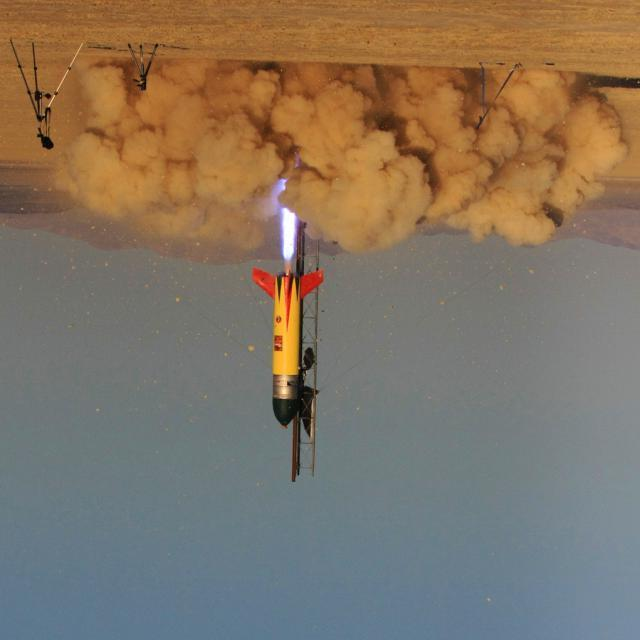missile: (267, 267, 307, 427)
